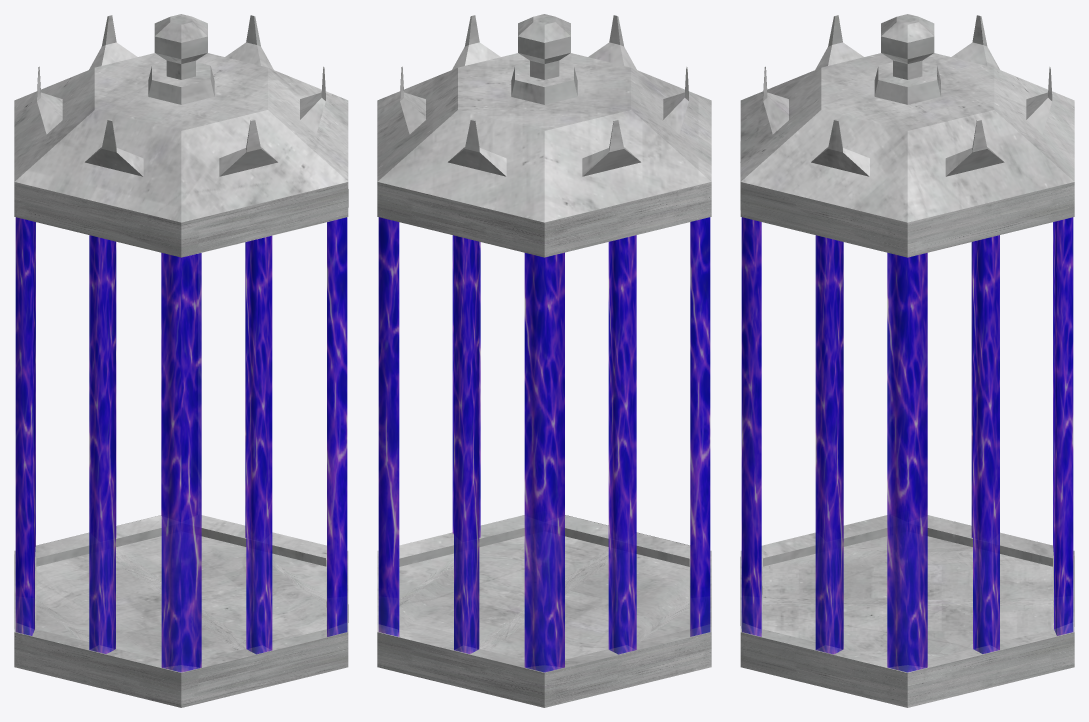
The model's file is cage2.glb.
The picture shows the model from 3 angles, left to right: view 1: azimuth 30°, elevation 25°; view 2: azimuth 150°, elevation 25°; view 3: azimuth 270°, elevation 25°; orthographic projection.
Parts seen in each view (by area): view 1: Cylinder; view 2: Cylinder; view 3: Cylinder.
Boxes of the visible parts, x1,y1,x2,y2 form: Cylinder: (14, 14, 348, 707); Cylinder: (377, 14, 711, 707); Cylinder: (740, 14, 1074, 707).
Size of the model in its own units: 2 by 3.47 by 1.73.
Materials: 2 (2 with a texture image).
